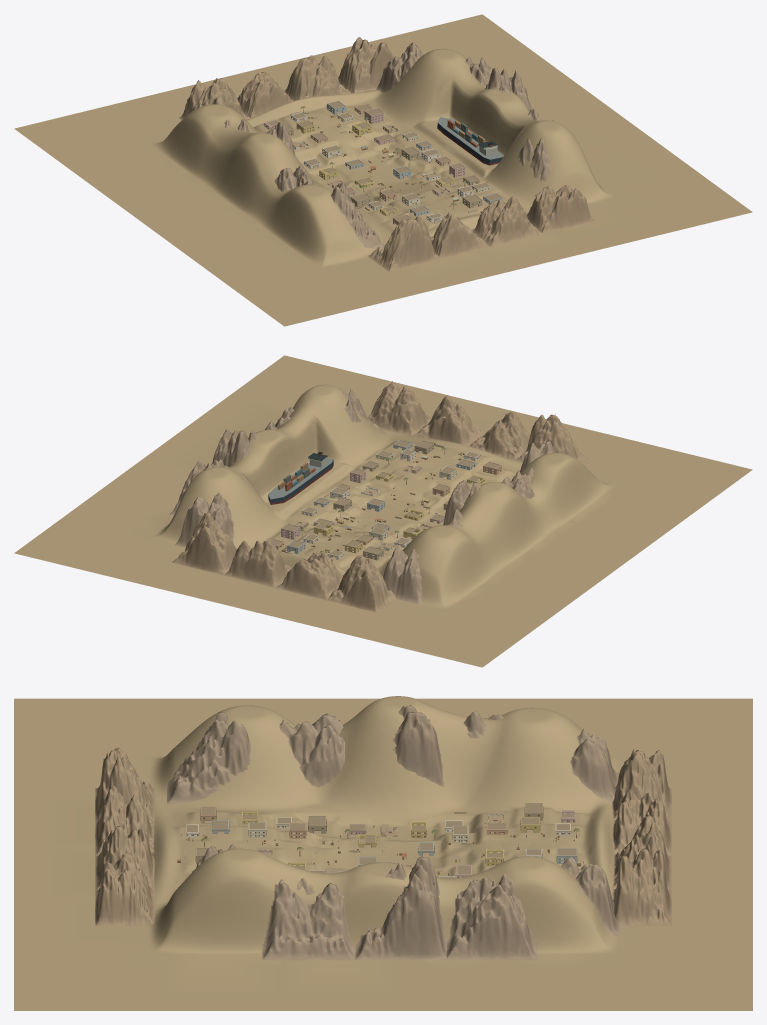
3 views of the same model, one above another, from view 1: azimuth 30°, elevation 25°; view 2: azimuth 150°, elevation 25°; view 3: azimuth 270°, elevation 25° (orthographic). The views are drawn at different scales.
Visible parts, largest first — view 1: tile-29-road-sand-0-0, tile-32-road-sand-0-0, tile-18-road-sand-0-0, tile-22-road-sand-0-0, tile-15-road-sand-0-0, tile-40-road-sand-0-0, tile-35-road-sand-0-0, tile-7-road-sand-0-0, tile-21-road-sand-0-0, tile-28-road-sand-0-0, tile-0-road-sand-0-0, tile-14-road-sand-0-0 (+53 smaller); view 2: tile-8-road-sand-0-0, tile-15-road-sand-0-0, tile-25-road-sand-0-0, tile-11-road-sand-0-0, tile-22-road-sand-0-0, tile-32-road-sand-0-0, tile-29-road-sand-0-0, tile-0-road-sand-0-0, tile-5-road-sand-0-0, tile-21-road-sand-0-0, tile-28-road-sand-0-0, tile-35-road-sand-0-0 (+53 smaller); view 3: tile-33-road-sand-0-0, tile-16-road-sand-0-0, tile-23-road-sand-0-0, tile-12-road-sand-0-0, tile-32-road-sand-0-0, tile-40-road-sand-0-0, 2_-2-rock-1-0, tile-0-road-sand-0-0, tile-5-road-sand-0-0, tile-35-road-sand-0-0, 2_0-rock-1-0, 2_-1-rock-1-0 (+60 smaller).
Boxes of the visible parts, <box> form: tile-29-road-sand-0-0: <box>261,184,376,267</box>; tile-32-road-sand-0-0: <box>484,120,600,212</box>; tile-18-road-sand-0-0: <box>398,55,499,147</box>; tile-22-road-sand-0-0: <box>218,135,303,236</box>; tile-15-road-sand-0-0: <box>175,113,272,204</box>; tile-40-road-sand-0-0: <box>601,177,718,226</box>; tile-35-road-sand-0-0: <box>229,268,345,317</box>; tile-7-road-sand-0-0: <box>57,142,173,191</box>; tile-21-road-sand-0-0: <box>143,205,259,254</box>; tile-28-road-sand-0-0: <box>186,236,302,285</box>; tile-0-road-sand-0-0: <box>14,110,130,159</box>; tile-14-road-sand-0-0: <box>100,173,216,222</box>; tile-8-road-sand-0-0: <box>391,526,493,617</box>; tile-15-road-sand-0-0: <box>436,486,536,586</box>; tile-25-road-sand-0-0: <box>248,408,356,497</box>; tile-11-road-sand-0-0: <box>153,468,269,552</box>; tile-22-road-sand-0-0: <box>480,472,579,554</box>; tile-32-road-sand-0-0: <box>292,384,399,466</box>; tile-29-road-sand-0-0: <box>520,452,622,523</box>; tile-0-road-sand-0-0: <box>408,618,524,667</box>; tile-5-road-sand-0-0: <box>36,527,152,576</box>; tile-21-road-sand-0-0: <box>537,523,653,573</box>; tile-28-road-sand-0-0: <box>580,492,696,541</box>; tile-35-road-sand-0-0: <box>623,460,739,510</box>; tile-33-road-sand-0-0: <box>165,909,283,996</box>; tile-16-road-sand-0-0: <box>400,754,517,852</box>; tile-23-road-sand-0-0: <box>283,752,400,852</box>; tile-12-road-sand-0-0: <box>518,910,635,996</box>; tile-32-road-sand-0-0: <box>165,848,283,938</box>; tile-40-road-sand-0-0: <box>48,940,165,996</box>; 2_-2-rock-1-0: <box>446,874,538,960</box>; tile-0-road-sand-0-0: <box>635,698,752,748</box>; tile-5-road-sand-0-0: <box>635,946,752,996</box>; tile-35-road-sand-0-0: <box>48,698,165,748</box>; 2_0-rock-1-0: <box>261,878,355,960</box>; 2_-1-rock-1-0: <box>355,856,446,960</box>.
Bounding box in the file's own units: 604 × 80.27 × 604.
